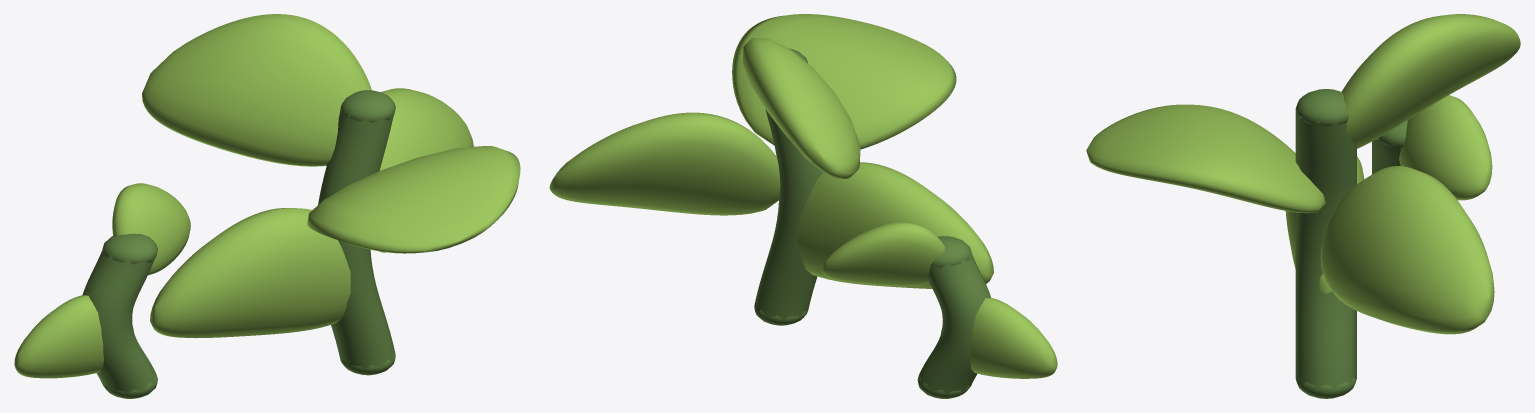
The model's file is crop_3_stage_1.fbx.
The picture shows the model from 3 angles, left to right: view 1: azimuth 30°, elevation 25°; view 2: azimuth 150°, elevation 25°; view 3: azimuth 270°, elevation 25°; orthographic projection. The views are drawn at different scales.
Visible parts, largest first — view 1: crop_3_stage_1; view 2: crop_3_stage_1; view 3: crop_3_stage_1.
Boxes of the visible parts, box(x1,y1,x2,y2) form: crop_3_stage_1: box(14, 14, 520, 398); crop_3_stage_1: box(549, 14, 1057, 398); crop_3_stage_1: box(1086, 14, 1520, 398).
Size of the model in its own units: 0.28 by 0.18 by 0.2.
1 material, 1 textured.
